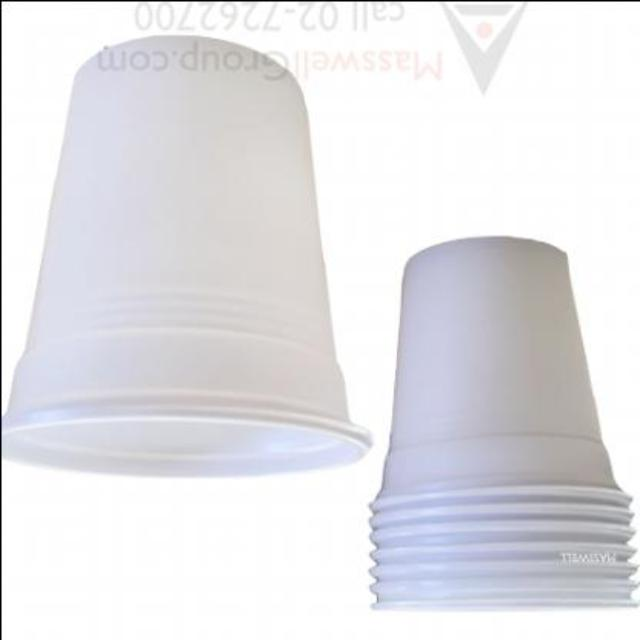plastic_cup: (1, 29, 371, 475), (363, 238, 639, 618)
